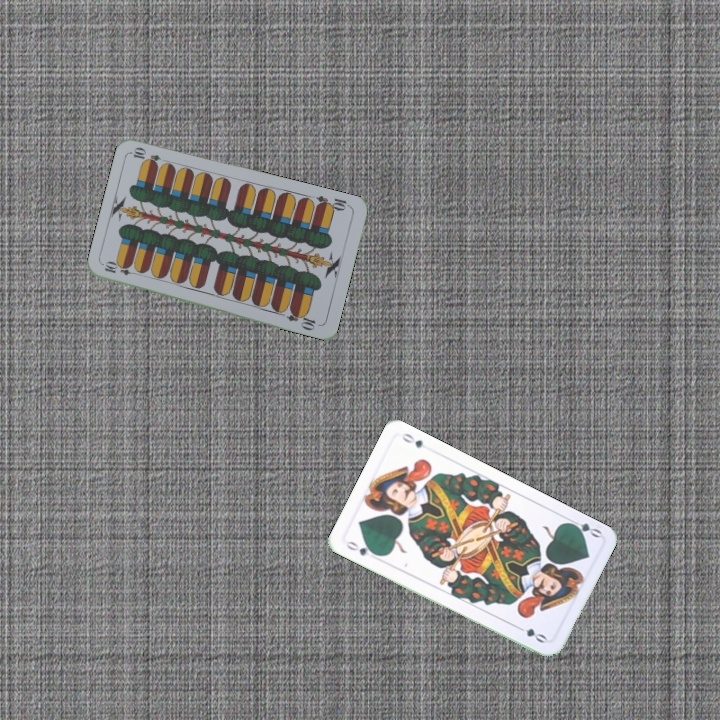E10: (312, 191, 353, 213), (101, 259, 141, 278)
GO: (564, 514, 604, 540), (342, 537, 381, 558)
